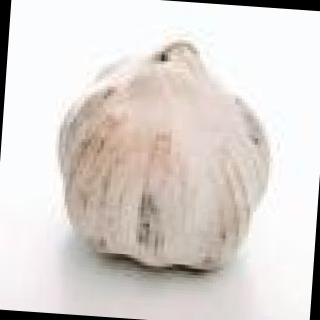Bawang Putih: (35, 31, 304, 282)
